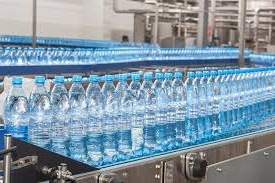plastic water bottle: (3, 75, 29, 133), (29, 75, 51, 143), (86, 75, 102, 164), (69, 75, 86, 157), (102, 75, 117, 164), (51, 75, 69, 149), (117, 74, 131, 159), (131, 73, 144, 154), (144, 72, 157, 152), (175, 71, 187, 147), (165, 71, 176, 148), (157, 72, 166, 151), (187, 70, 196, 144)
